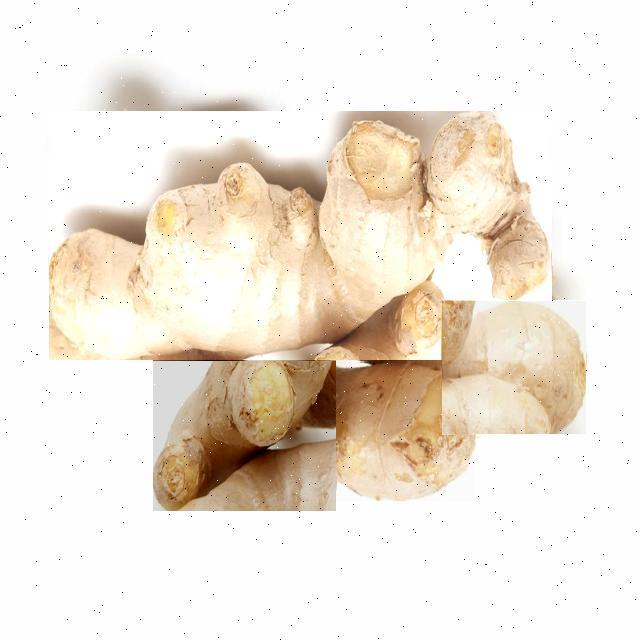ginger: (49, 110, 550, 359), (153, 282, 335, 509), (300, 361, 474, 499), (441, 300, 585, 432)
